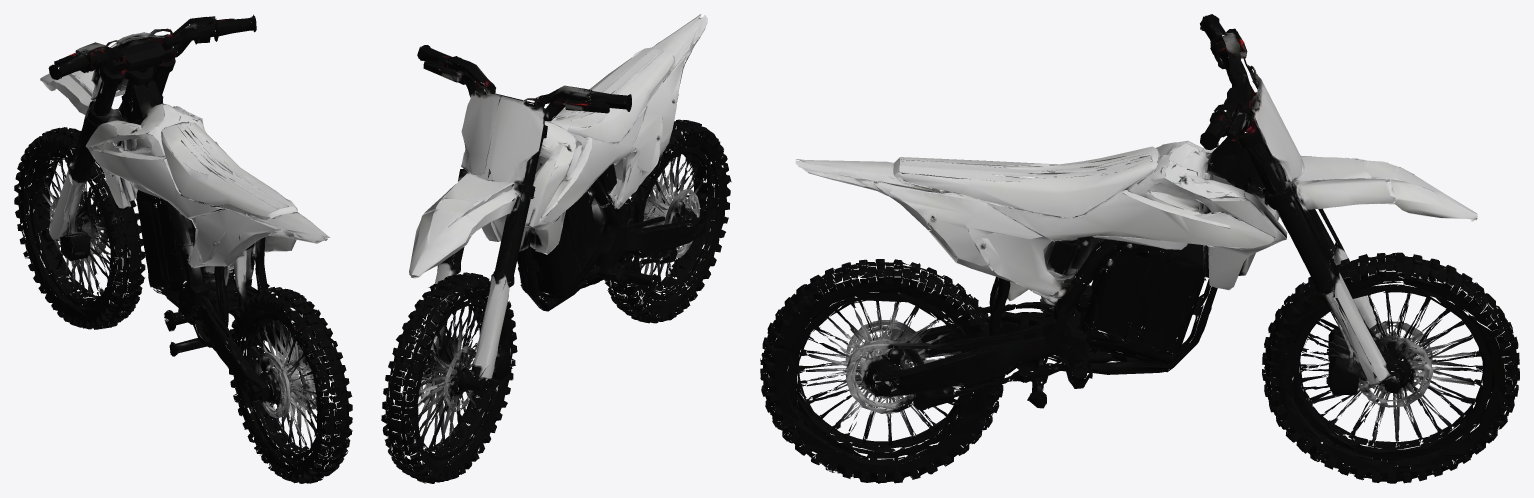
File: bike_electric.glb
The picture shows the model from 3 angles, left to right: view 1: azimuth 30°, elevation 25°; view 2: azimuth 150°, elevation 25°; view 3: azimuth 270°, elevation 25°; orthographic projection. The views are drawn at different scales.
Parts seen in each view (by area): view 1: bike_body, wheel_f, wheel_r; view 2: bike_body, wheel_f, wheel_r; view 3: bike_body, wheel_f, wheel_r.
Boxes of the visible parts, x1,y1,x2,y2 form: bike_body: [40, 14, 334, 448]; wheel_f: [14, 127, 145, 329]; wheel_r: [213, 288, 352, 483]; bike_body: [409, 14, 707, 449]; wheel_f: [381, 264, 517, 483]; wheel_r: [600, 121, 731, 323]; bike_body: [784, 14, 1477, 445]; wheel_f: [1262, 244, 1519, 483]; wheel_r: [760, 259, 1005, 483].
Size of the model in its own units: 0.9459 by 1.49 by 2.51.
Materials: 1 (1 with a texture image).
